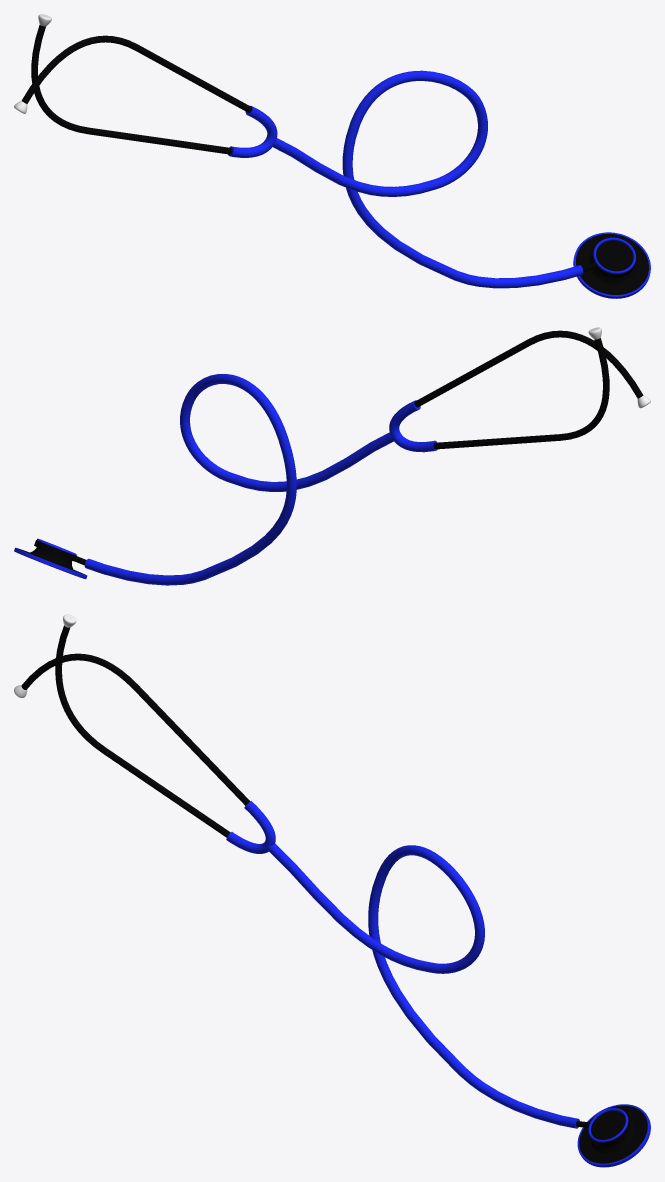
The model's file is Stethoscope.fbx.
3 views of the same model, one above another, from view 1: azimuth 30°, elevation 25°; view 2: azimuth 150°, elevation 25°; view 3: azimuth 330°, elevation 25° (orthographic).
Parts seen in each view (by area): view 1: Sweep, Sweep_3, Sweep_2, Cylinder, Cylinder_2; view 2: Sweep, Sweep_2, Sweep_3; view 3: Sweep, Sweep_2, Sweep_3, Cylinder, Cylinder_2.
Boxes of the visible parts, x1,y1,x2,y2 form: Sweep: (230,70,583,288); Sweep_3: (31,25,232,154); Sweep_2: (21,35,251,112); Cylinder: (576,233,648,294); Cylinder_2: (591,240,636,277); Sweep: (84,374,435,585); Sweep_2: (414,330,643,407); Sweep_3: (433,338,609,449); Sweep: (226,801,577,1128); Sweep_2: (21,653,249,805); Sweep_3: (55,625,230,837); Cylinder: (579,1105,647,1163); Cylinder_2: (587,1109,630,1146).
Size of the model in its own units: 863 by 520 by 81.33.
